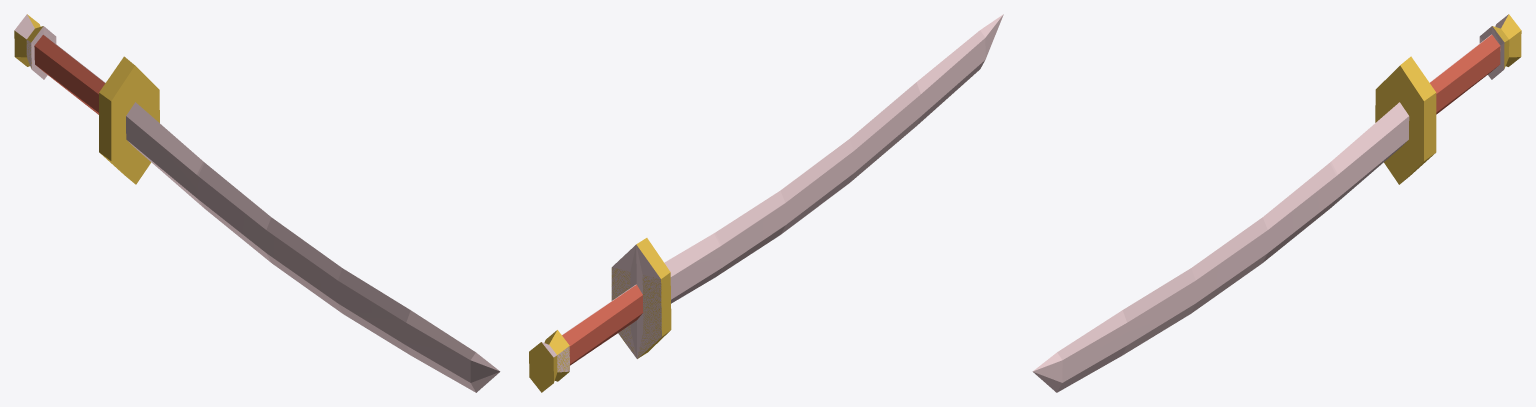
File: sword.fbx
3 views of the same model, side by side, from view 1: azimuth 30°, elevation 25°; view 2: azimuth 150°, elevation 25°; view 3: azimuth 330°, elevation 25° (orthographic). The views are drawn at different scales.
Parts seen in each view (by area): view 1: Cylinder; view 2: Cylinder; view 3: Cylinder.
Boxes of the visible parts, left/top/right/bottom form: Cylinder: left=14, top=14, right=500, bottom=392; Cylinder: left=529, top=14, right=1003, bottom=392; Cylinder: left=1032, top=14, right=1521, bottom=392.
Bounding box in the file's own units: 32.68 × 72.66 × 521.
